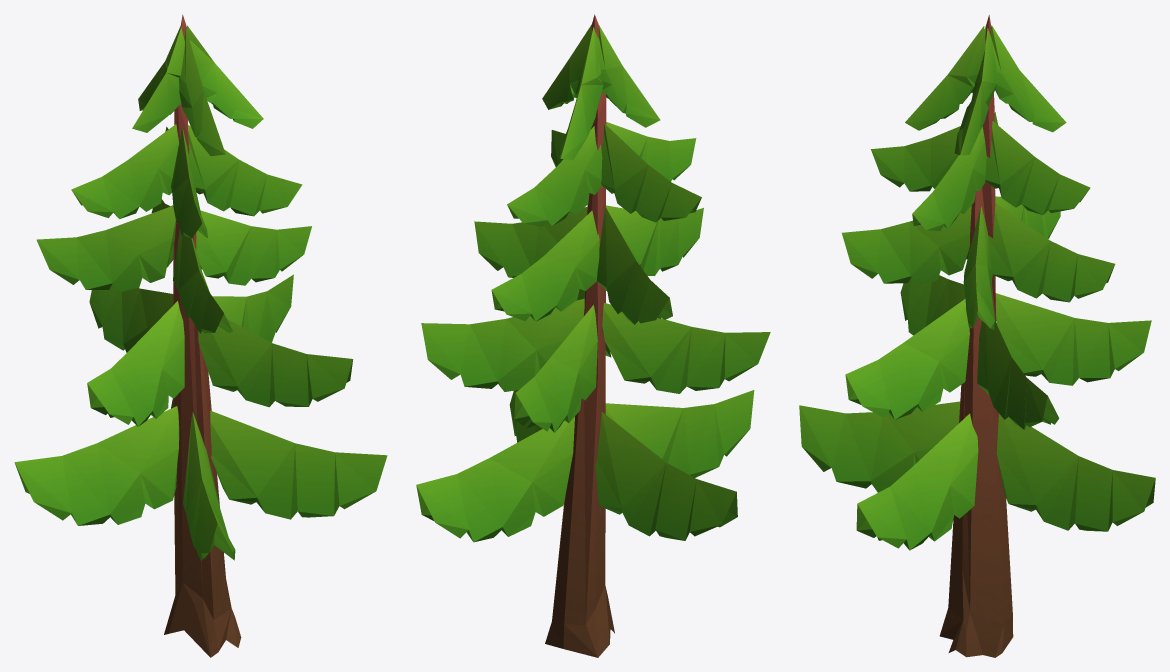
The picture shows the model from 3 angles, left to right: view 1: azimuth 30°, elevation 25°; view 2: azimuth 150°, elevation 25°; view 3: azimuth 270°, elevation 25°; orthographic projection. The views are drawn at different scales.
Parts seen in each view (by area): view 1: Conifer2_Low; view 2: Conifer2_Low; view 3: Conifer2_Low.
Boxes of the visible parts, bbox=[...] form: Conifer2_Low: bbox=[14, 14, 387, 657]; Conifer2_Low: bbox=[416, 14, 770, 657]; Conifer2_Low: bbox=[799, 15, 1155, 657].
Bounding box in the file's own units: 246 × 500 × 259.
Materials: 1 (1 with a texture image).
